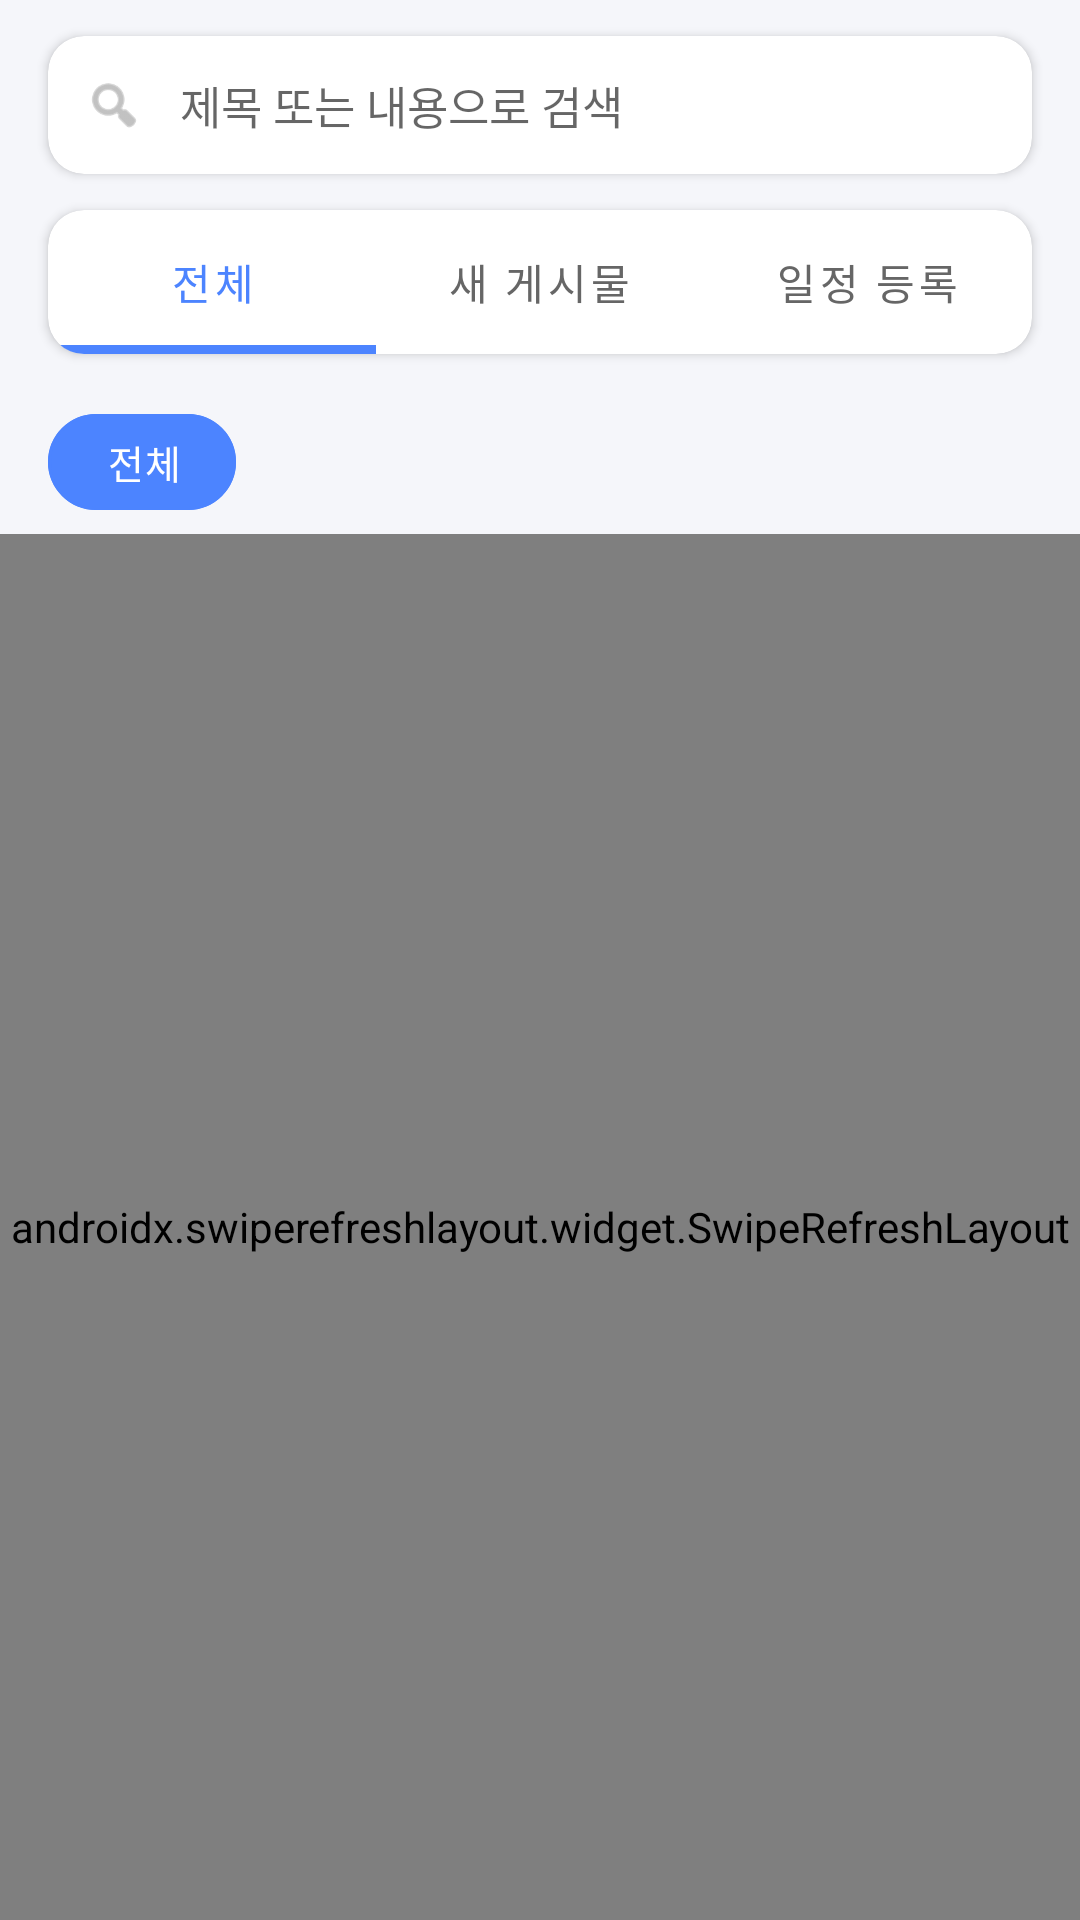

Point at icon controls on the screen. Image size 1080px x 1920px, points as point (x, y).
search: point (114, 105)
